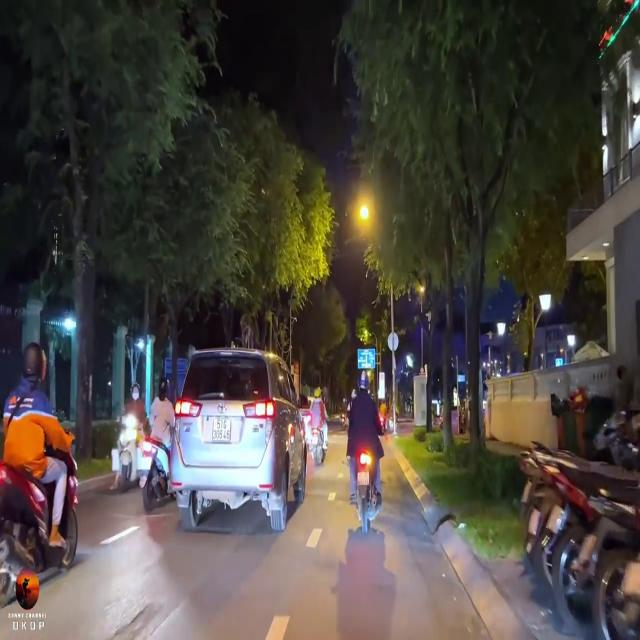bien_trang: (211, 418, 232, 442)
